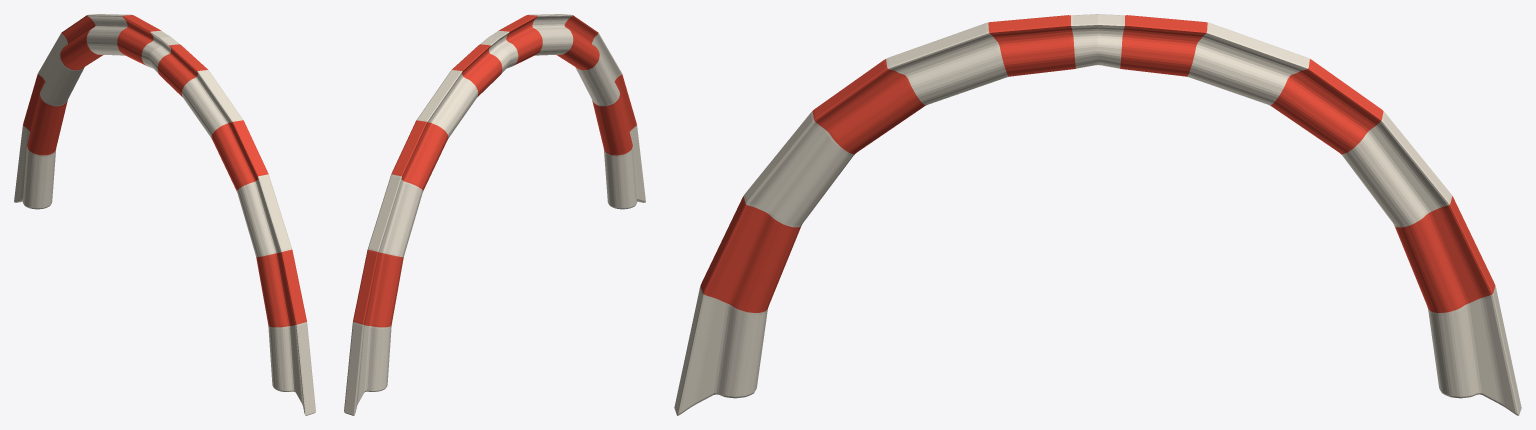
Rendered from ring.fbx.
3 renders of one model, left to right at view 1: azimuth 30°, elevation 25°; view 2: azimuth 150°, elevation 25°; view 3: azimuth 270°, elevation 25°, orthographic. The views are drawn at different scales.
Parts seen in each view (by area): view 1: Torus; view 2: Torus; view 3: Torus.
Boxes of the visible parts, x1,y1,x2,y2 form: Torus: (14, 14, 315, 415); Torus: (344, 14, 645, 415); Torus: (674, 14, 1521, 415).
Size of the model in its own units: 11.77 by 120 by 234.
